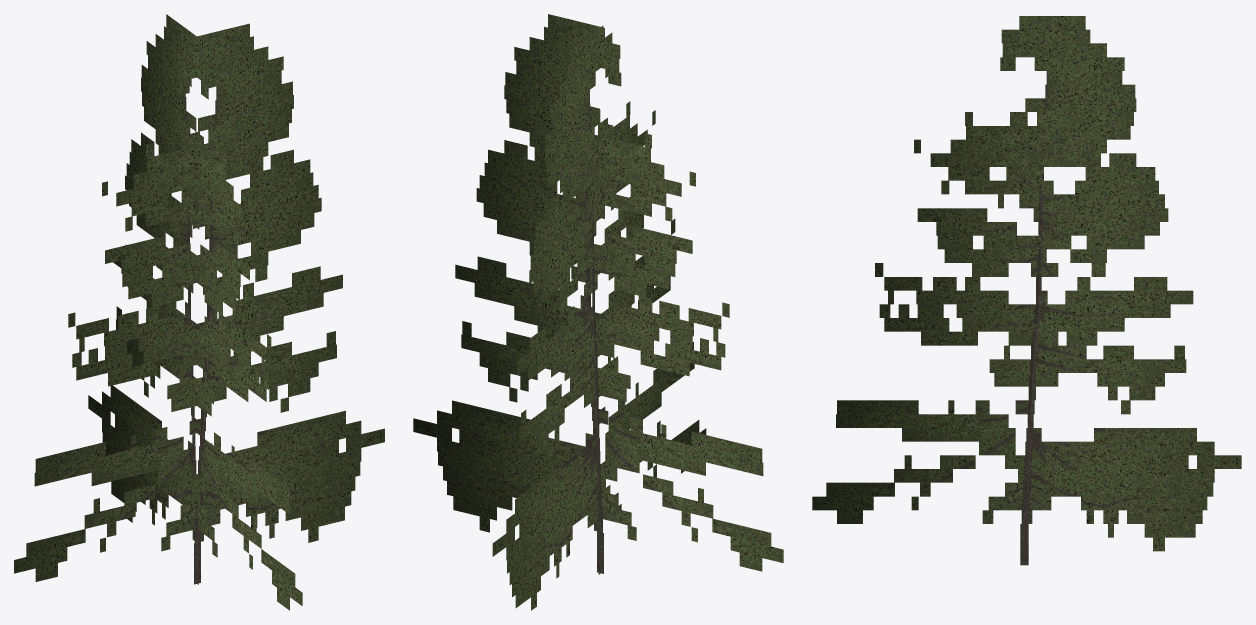
File: impostor-fir-c-far.glb
3 renders of one model, left to right at view 1: azimuth 30°, elevation 25°; view 2: azimuth 150°, elevation 25°; view 3: azimuth 270°, elevation 25°, orthographic.
Size of the model in its own units: 3.75 by 5.29 by 3.75.
Materials: 1 (1 with a texture image).
